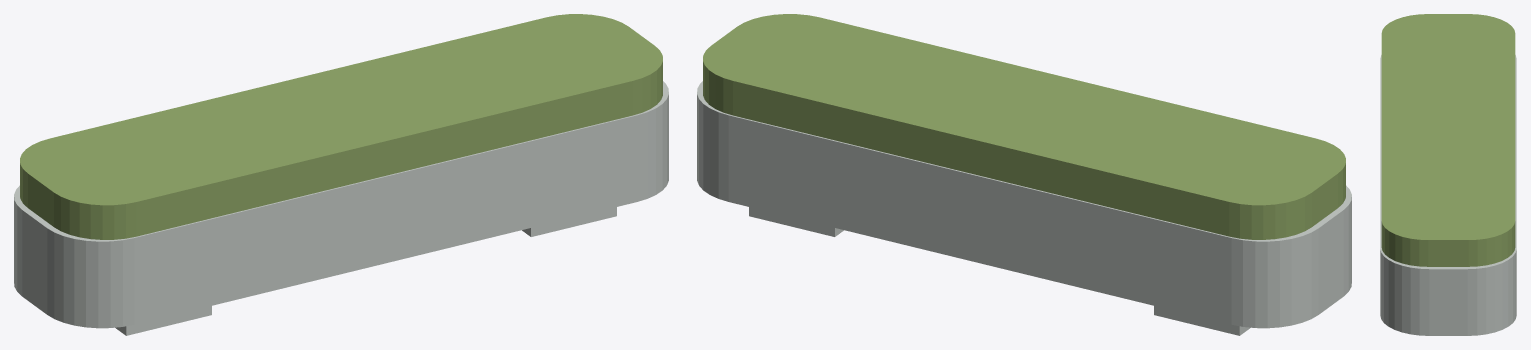
Rendered from seat.glb.
3 renders of one model, left to right at view 1: azimuth 30°, elevation 25°; view 2: azimuth 150°, elevation 25°; view 3: azimuth 270°, elevation 25°, orthographic. The views are drawn at different scales.
Bounding box in the file's own units: 2 × 0.45 × 0.5.
